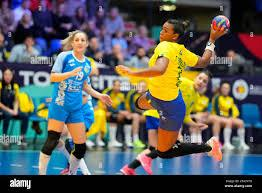ballon_handball: (212, 14, 230, 35)
